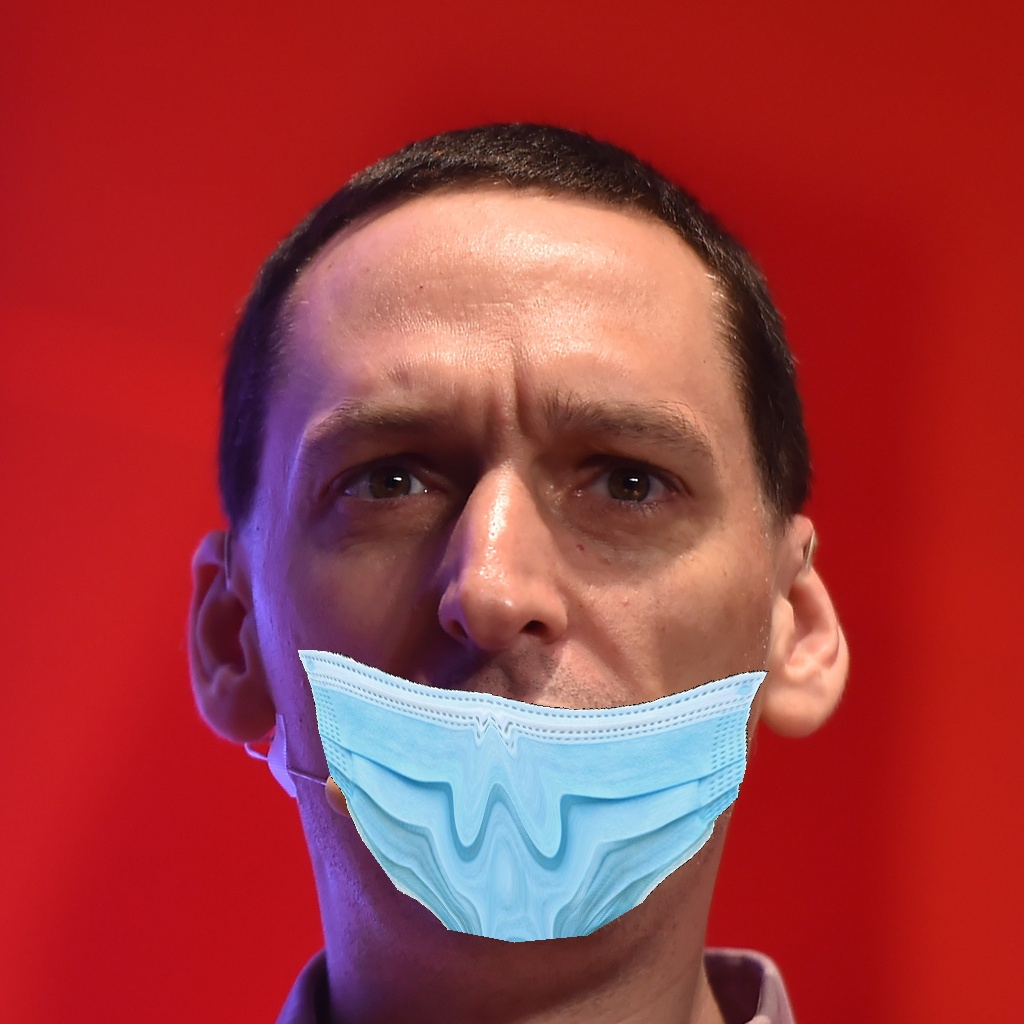mask_weared_incorrect: (229, 375, 788, 967)
